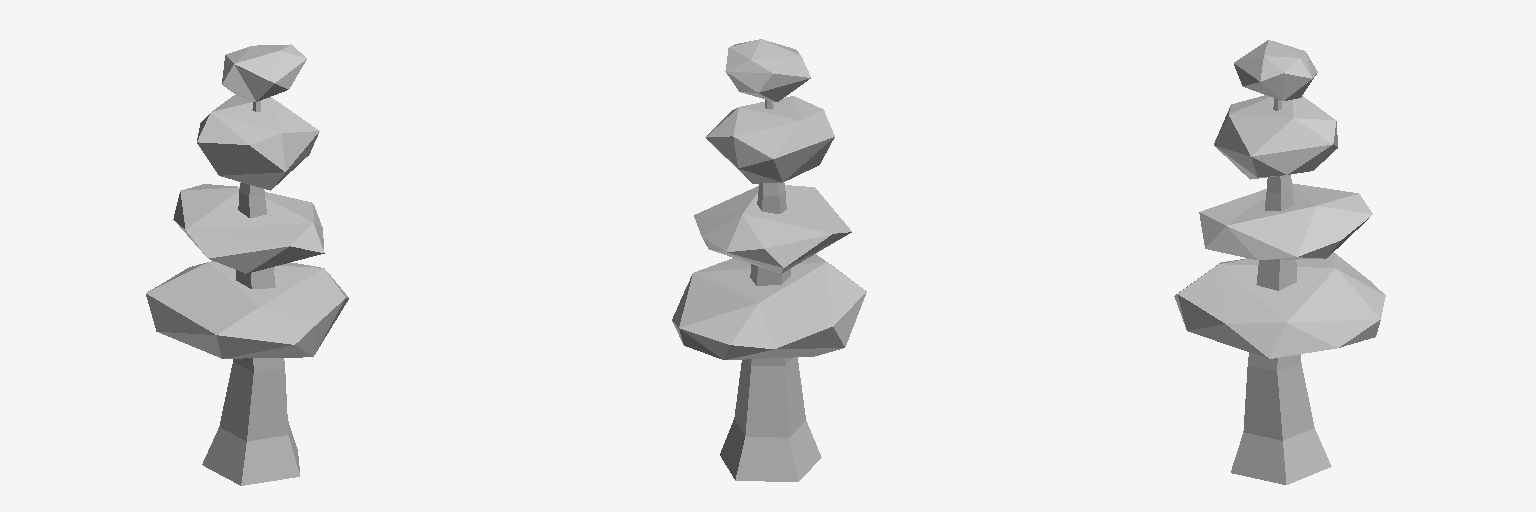
Rendered from Low_Poly_Tree_002_hitbox.obj.
The picture shows the model from 3 angles: view 1: azimuth 30°, elevation 25°; view 2: azimuth 150°, elevation 25°; view 3: azimuth 270°, elevation 25°; orthographic projection.
Visible parts, largest first — view 1: Low_Poly_Tree_002.001_Icosphere.000, Low_Poly_Tree_002_Icosphere.001, Low_Poly_Tree_002.002_Icosphere.002, Low_Poly_Tree_002.003_Icosphere.003, Low_Poly_Tree_002.004_Icosphere.004; view 2: Low_Poly_Tree_002.001_Icosphere.000, Low_Poly_Tree_002_Icosphere.001, Low_Poly_Tree_002.002_Icosphere.002, Low_Poly_Tree_002.003_Icosphere.003, Low_Poly_Tree_002.004_Icosphere.004; view 3: Low_Poly_Tree_002.001_Icosphere.000, Low_Poly_Tree_002_Icosphere.001, Low_Poly_Tree_002.002_Icosphere.002, Low_Poly_Tree_002.003_Icosphere.003, Low_Poly_Tree_002.004_Icosphere.004.
Part boxes in pixels (x1,y1,x2,y2): Low_Poly_Tree_002.001_Icosphere.000: (146,261,348,358); Low_Poly_Tree_002_Icosphere.001: (202,101,299,485); Low_Poly_Tree_002.002_Icosphere.002: (173,184,324,273); Low_Poly_Tree_002.003_Icosphere.003: (197,95,319,190); Low_Poly_Tree_002.004_Icosphere.004: (222,44,306,101); Low_Poly_Tree_002.001_Icosphere.000: (672,254,866,359); Low_Poly_Tree_002_Icosphere.001: (720,99,821,481); Low_Poly_Tree_002.002_Icosphere.002: (694,185,851,273); Low_Poly_Tree_002.003_Icosphere.003: (705,96,834,183); Low_Poly_Tree_002.004_Icosphere.004: (725,39,810,101); Low_Poly_Tree_002.001_Icosphere.000: (1174,252,1385,358); Low_Poly_Tree_002_Icosphere.001: (1231,98,1331,484); Low_Poly_Tree_002.002_Icosphere.002: (1199,183,1372,259); Low_Poly_Tree_002.003_Icosphere.003: (1214,95,1337,179); Low_Poly_Tree_002.004_Icosphere.004: (1234,40,1317,100).
Bounding box in the file's own units: 4.89 × 10.96 × 5.07.